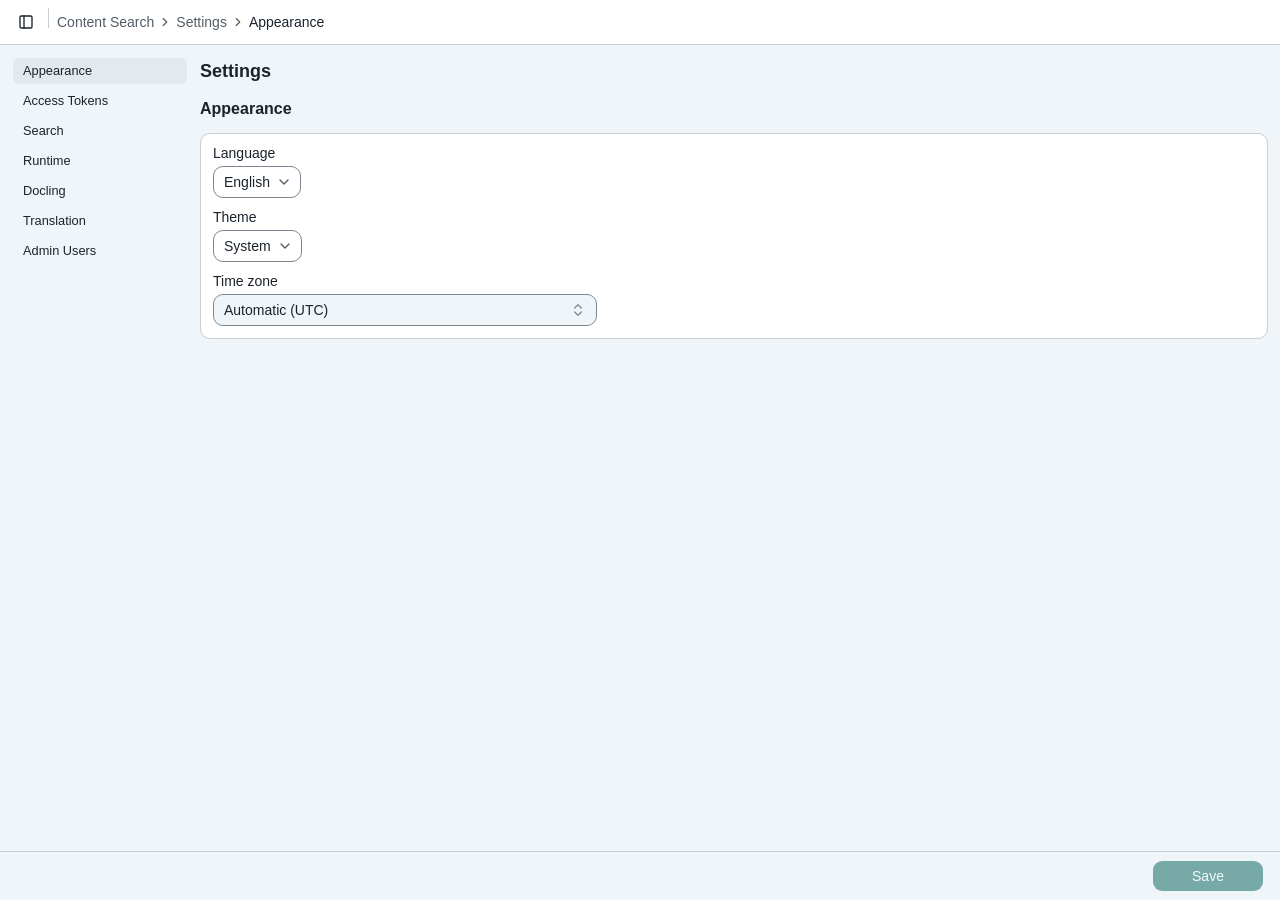
it: appearance settings › warns and stays pending when the browser denies storage
This screenshot has width=1280, height=900.
Click the dropdown with test id "settings-theme-select": click(257, 246) [213,230,302,262]
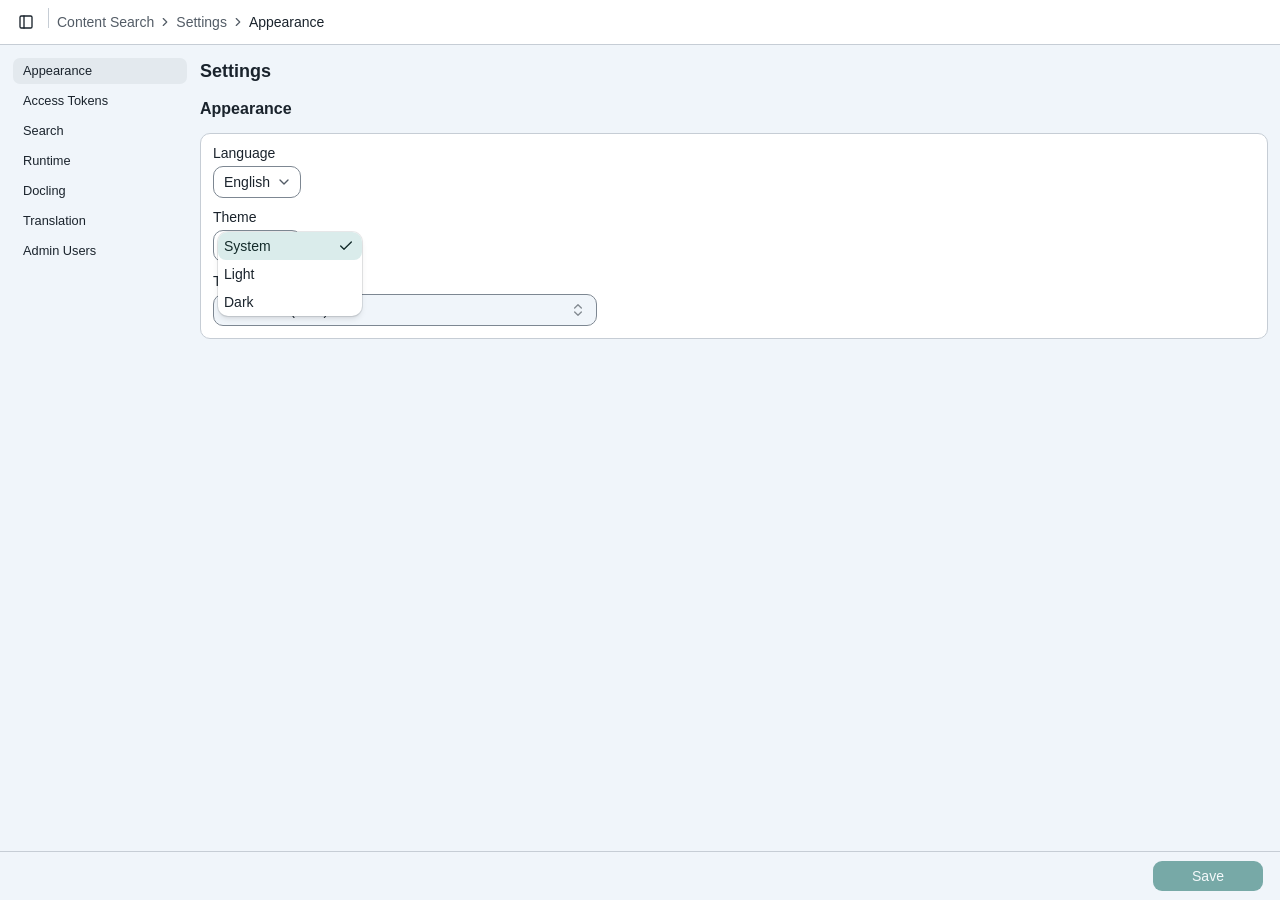
Click the option "Dark": click(239, 302) [224,294,254,310]
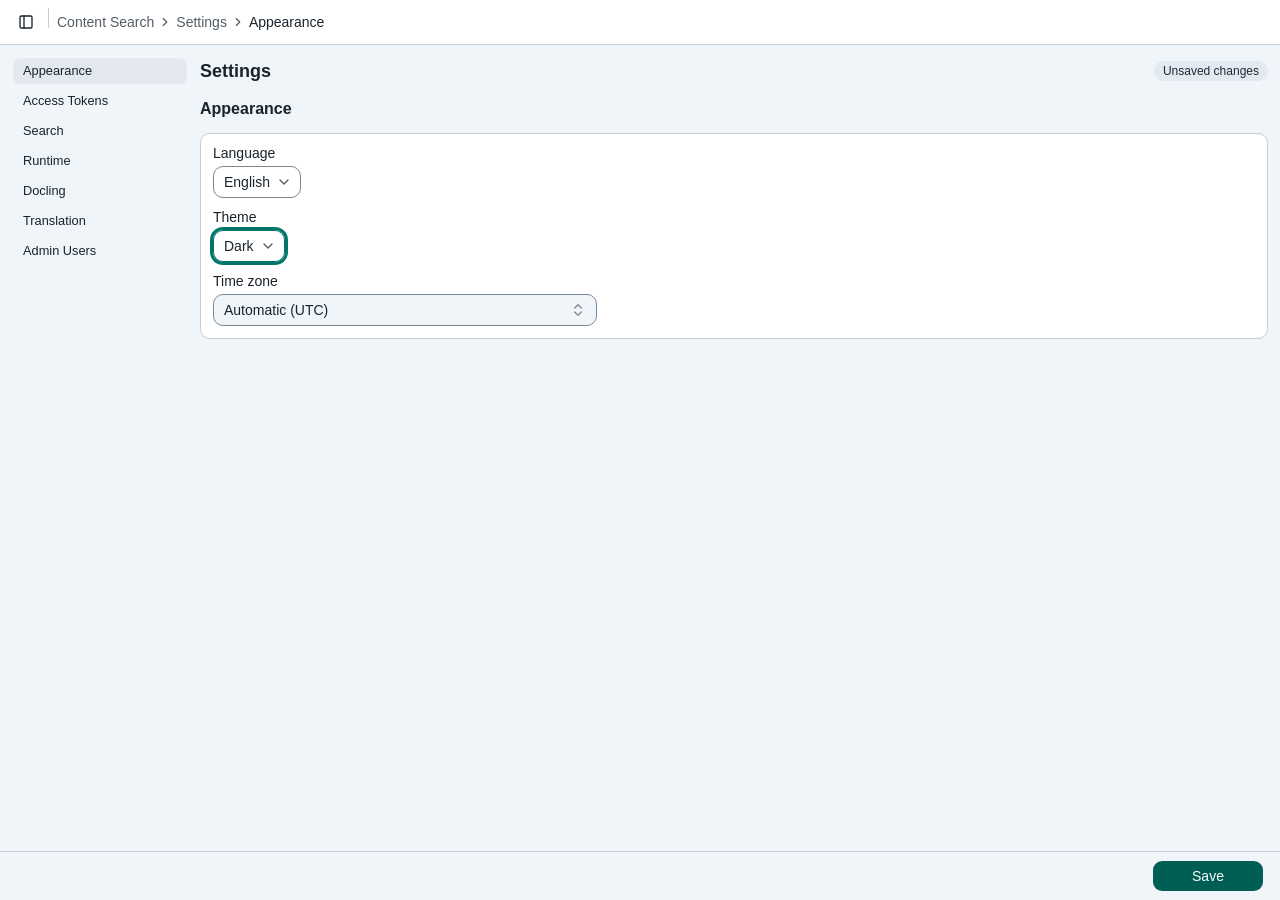
Click the button with test id "settings-save": click(1208, 876) [1152,860,1264,892]
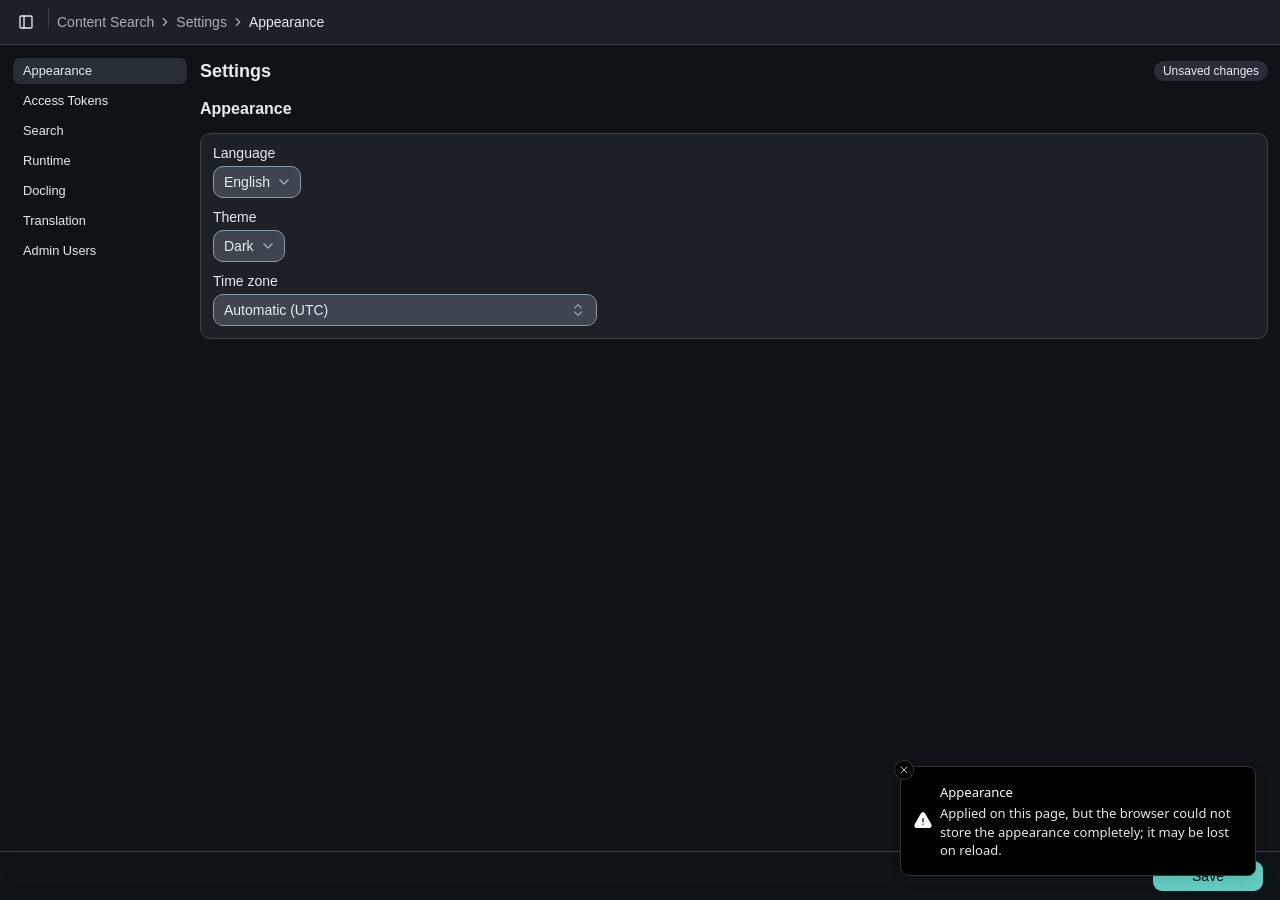
expect the button with test id "settings-save" is enabled: met, box [1152,860,1264,892]
expect the text "could not store the appearance" is shown: met, box [940,804,1230,859]
